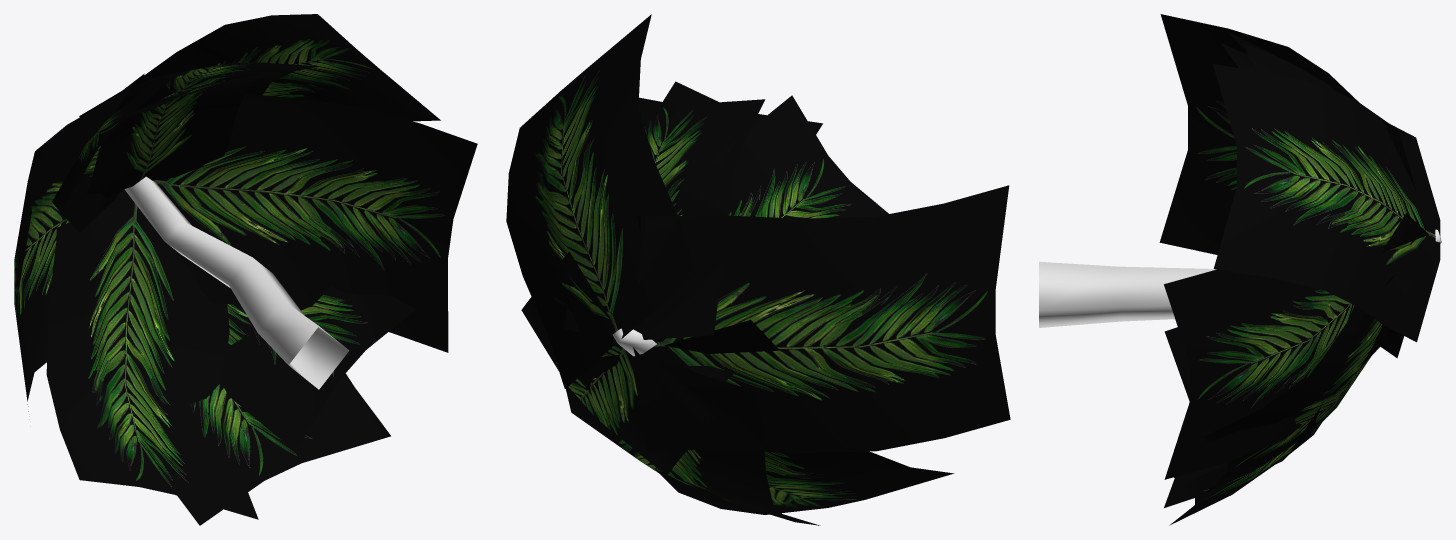
File: Tree.fbx
3 views of the same model, side by side, from view 1: azimuth 30°, elevation 25°; view 2: azimuth 150°, elevation 25°; view 3: azimuth 270°, elevation 25° (orthographic). The views are drawn at different scales.
Parts seen in each view (by area): view 1: TreeLeaf.001; view 2: TreeLeaf.001; view 3: TreeLeaf.001.
Part boxes in pixels (box(x1,y1,x2,y2)): TreeLeaf.001: box(14, 14, 477, 525); TreeLeaf.001: box(506, 14, 1010, 525); TreeLeaf.001: box(1039, 14, 1441, 525).
Size of the model in its own units: 1468 by 1467 by 1101.
